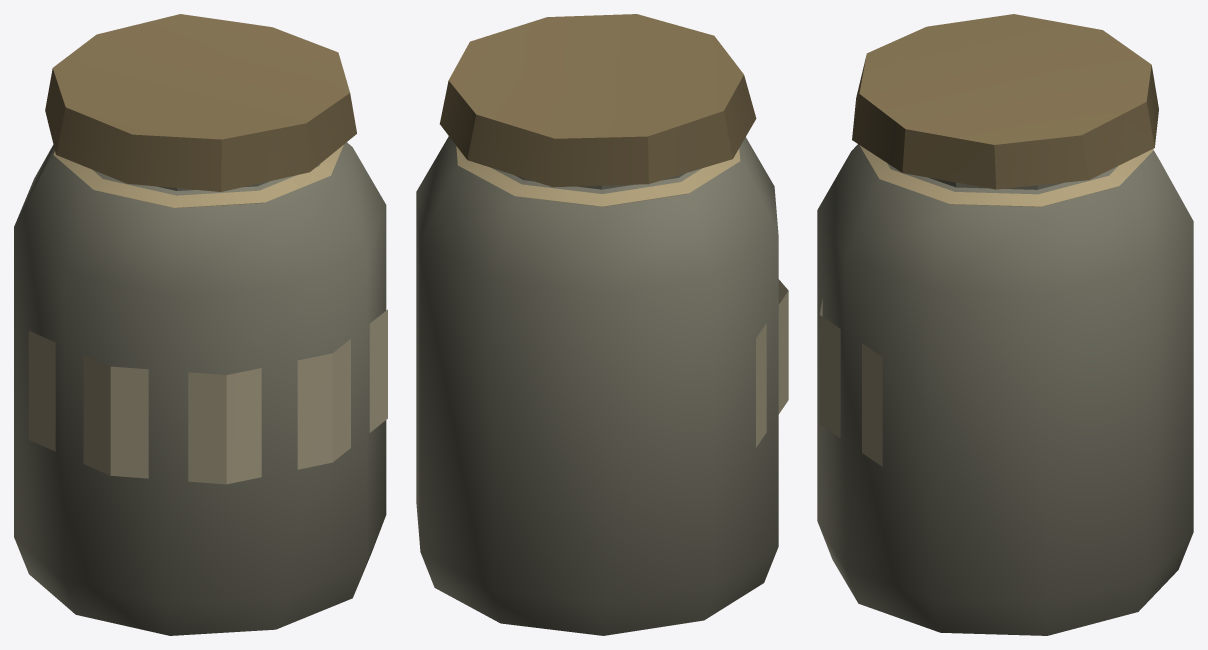
Rendered from ph_item_specimen_jar.glb.
3 renders of one model, left to right at view 1: azimuth 30°, elevation 25°; view 2: azimuth 150°, elevation 25°; view 3: azimuth 270°, elevation 25°, orthographic.
Visible parts, largest first — view 1: ph_item_specimen_jar; view 2: ph_item_specimen_jar; view 3: ph_item_specimen_jar.
Part boxes in pixels (x1,y1,x2,y2): ph_item_specimen_jar: (14, 14, 387, 635); ph_item_specimen_jar: (416, 14, 788, 635); ph_item_specimen_jar: (817, 14, 1193, 635).
Size of the model in its own units: 0.1428 by 0.2097 by 0.1436.
